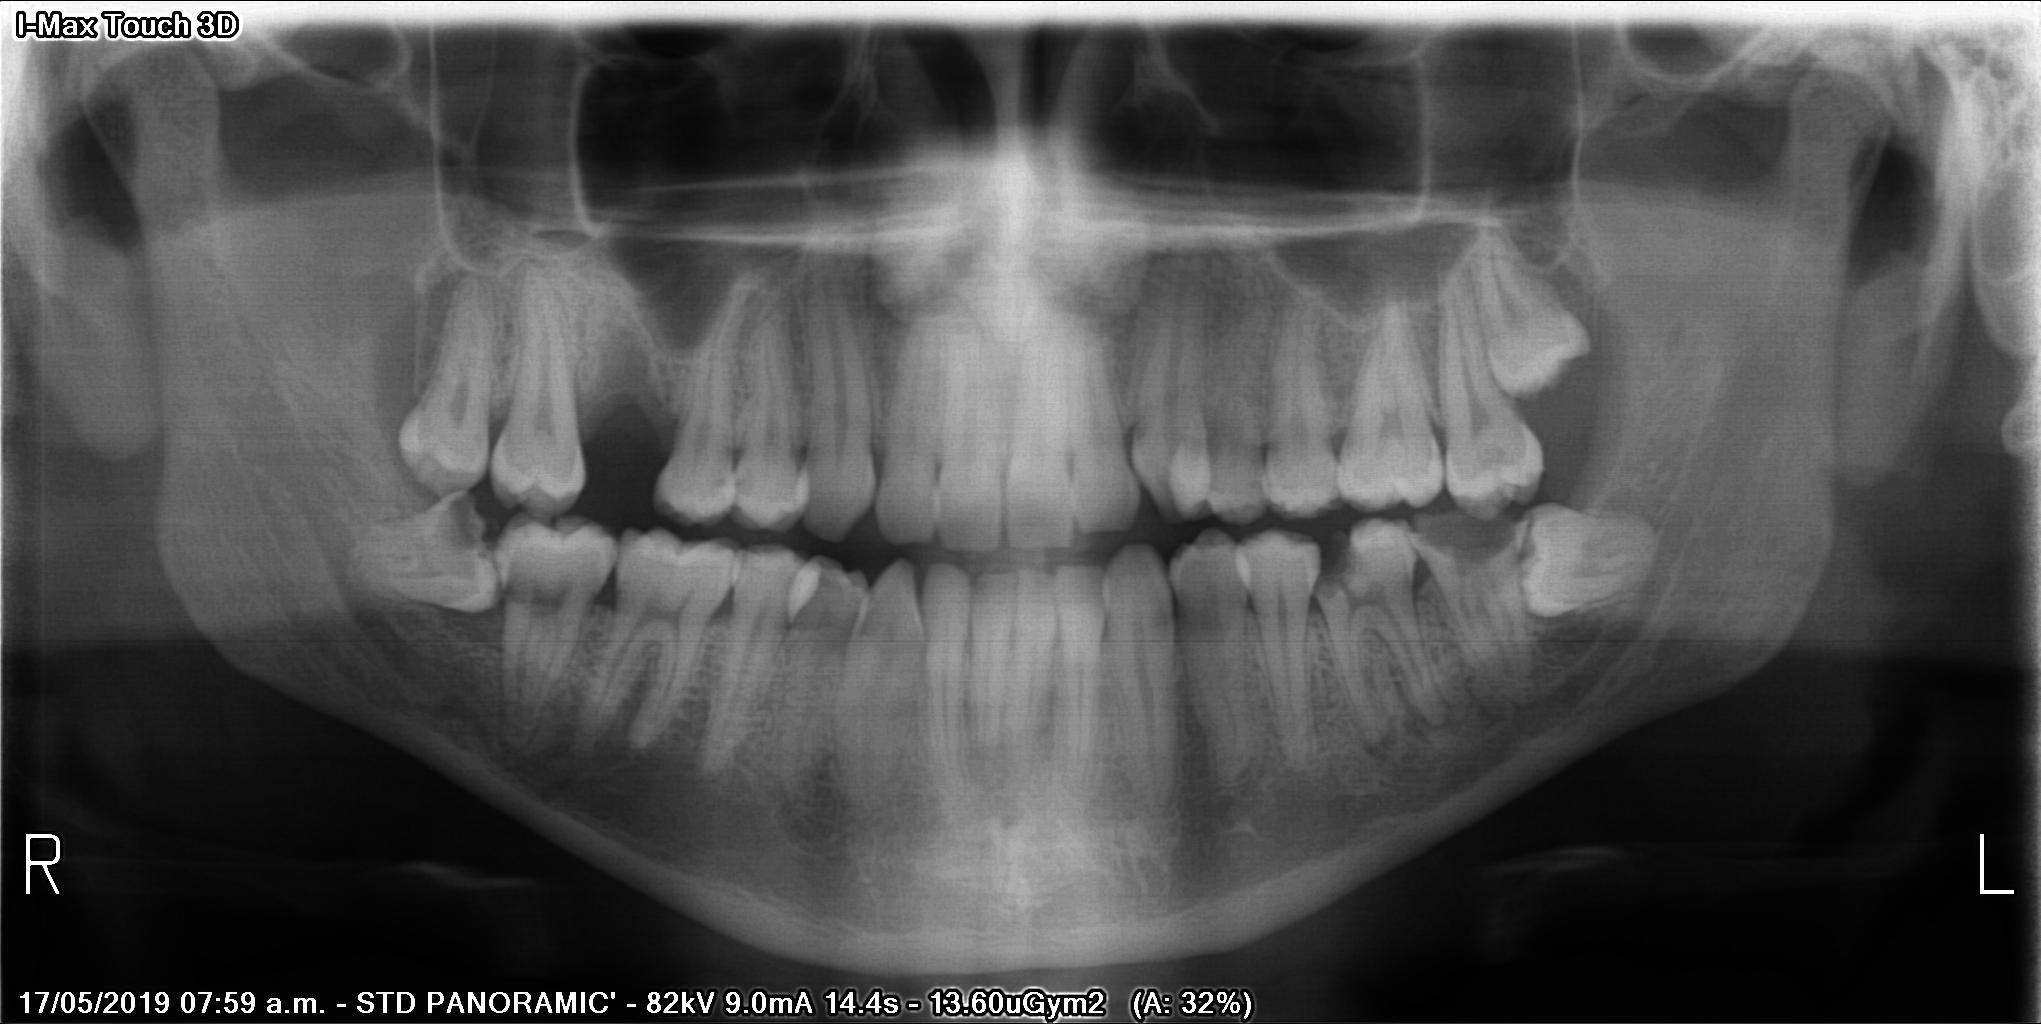Çürük Bölgesi: (1412, 515, 1538, 562), (437, 495, 492, 552), (1316, 532, 1355, 601)
